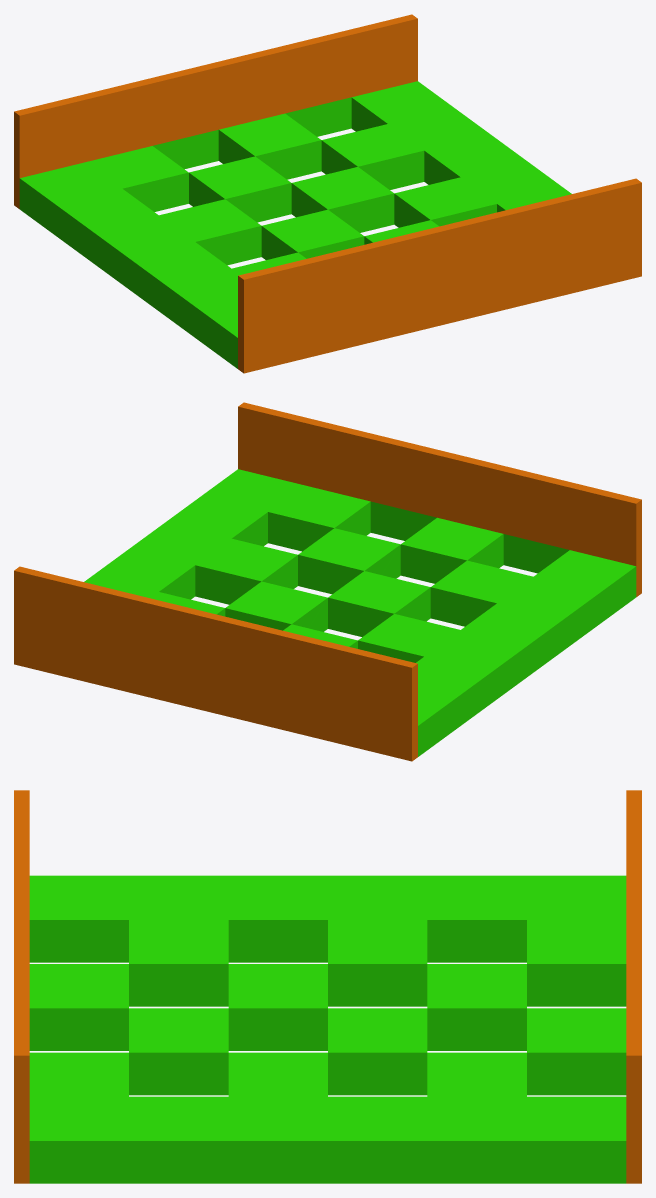
The model's file is checkerboard.fbx.
The picture shows the model from 3 angles, top to bottom: view 1: azimuth 30°, elevation 25°; view 2: azimuth 150°, elevation 25°; view 3: azimuth 270°, elevation 25°; orthographic projection. The views are drawn at different scales.
Parts seen in each view (by area): view 1: Plane; view 2: Plane; view 3: Plane.
Part boxes in pixels (left/top/right/bottom): Plane: left=14, top=14, right=641, bottom=373; Plane: left=14, top=402, right=641, bottom=761; Plane: left=14, top=790, right=641, bottom=1183.
Size of the model in its own units: 400 by 90 by 400.
